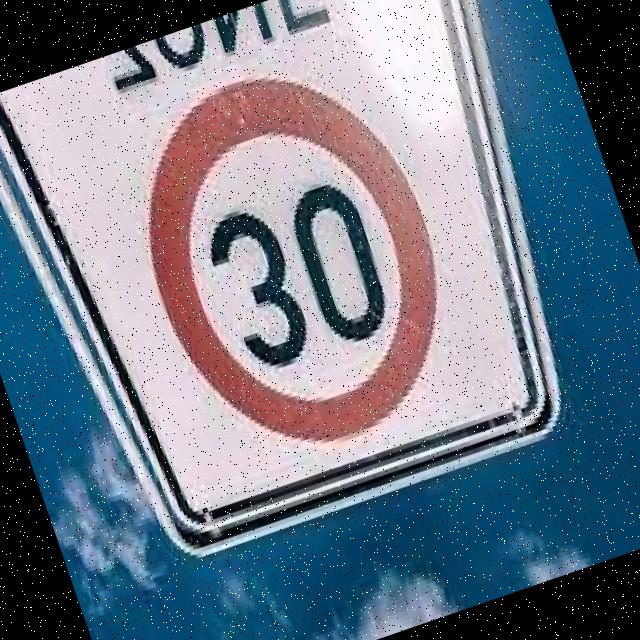speed_limit_30: (98, 37, 493, 497)
